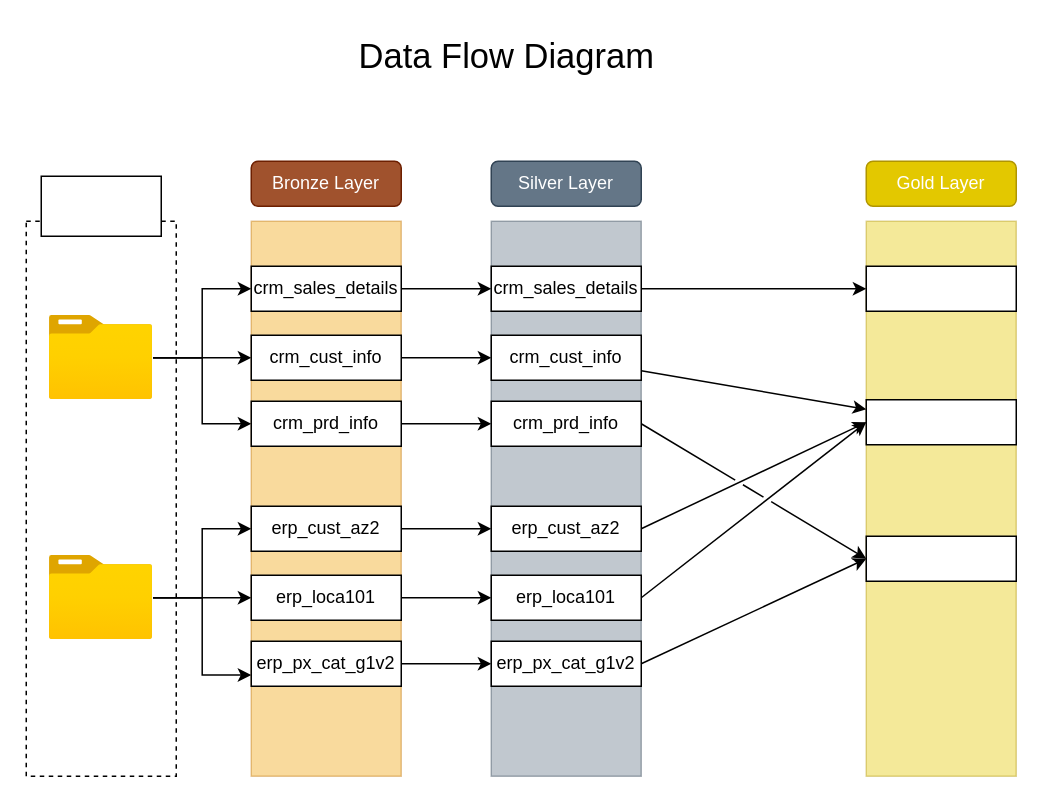
Image size: 1043x803. Some labels were removed from this diagram. Here are the shapes that lost their labels. From the top down, the centre of each, then its label:
point (100, 205): Sources
point (940, 288): fact_sales
point (100, 357): CRM
point (940, 421): dim_customers
point (940, 558): dim_products
point (100, 597): ERP
